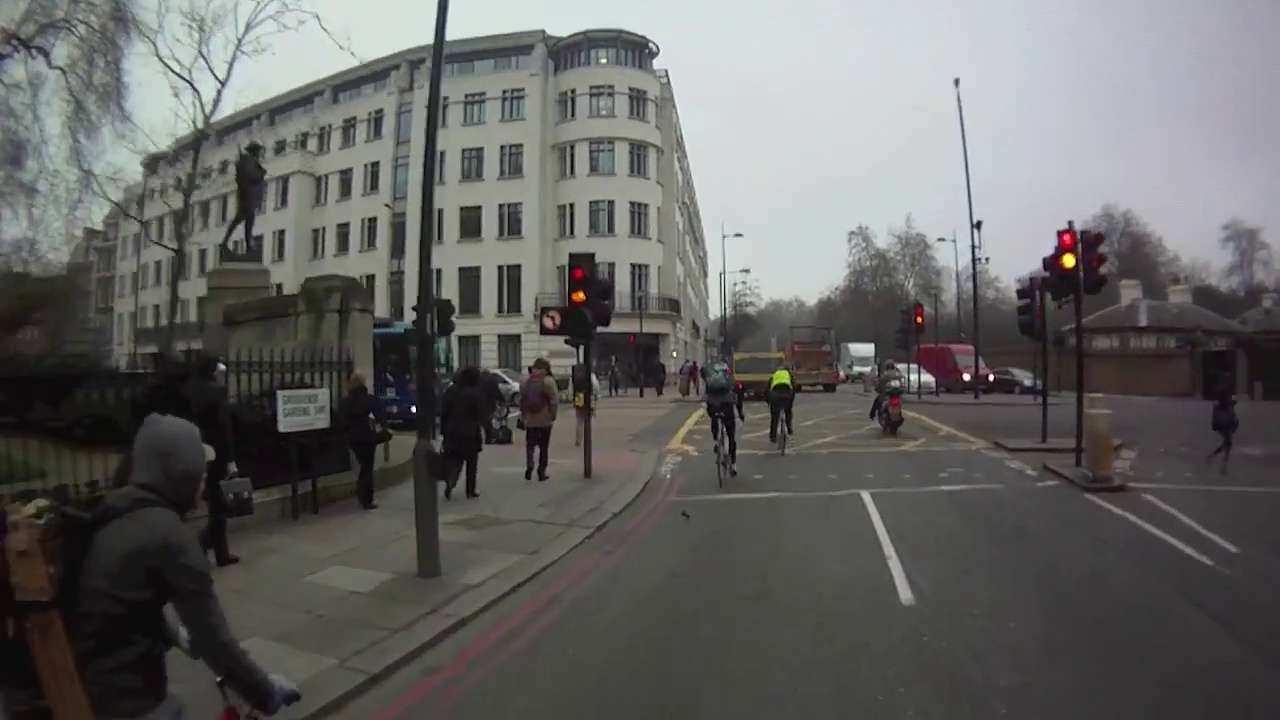cyclist_back: (701, 357, 745, 487), (762, 364, 798, 458), (868, 357, 907, 437)
